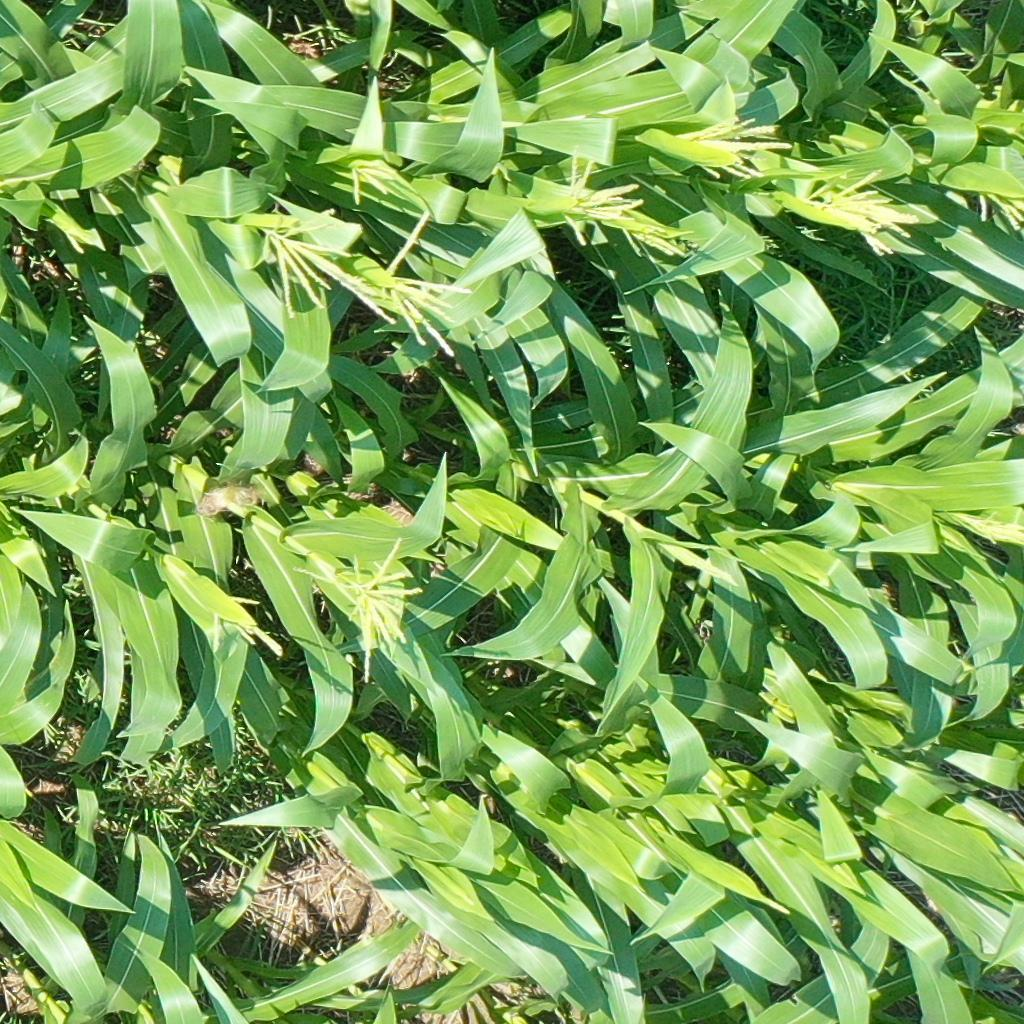Tassel: (244, 196, 399, 341), (291, 537, 421, 687), (366, 208, 475, 360), (796, 162, 923, 264), (664, 107, 792, 203), (550, 144, 647, 247), (204, 593, 284, 663), (620, 218, 699, 267), (336, 154, 408, 207), (951, 501, 1024, 549), (968, 182, 1024, 233), (674, 549, 741, 588)
